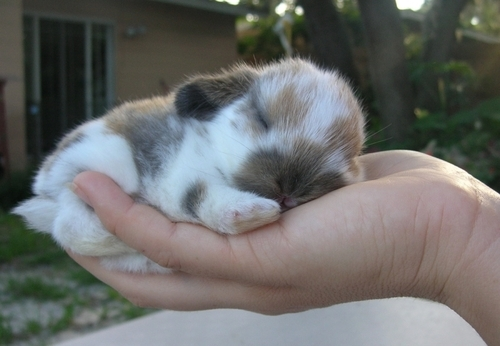bunny: (8, 42, 373, 269)
